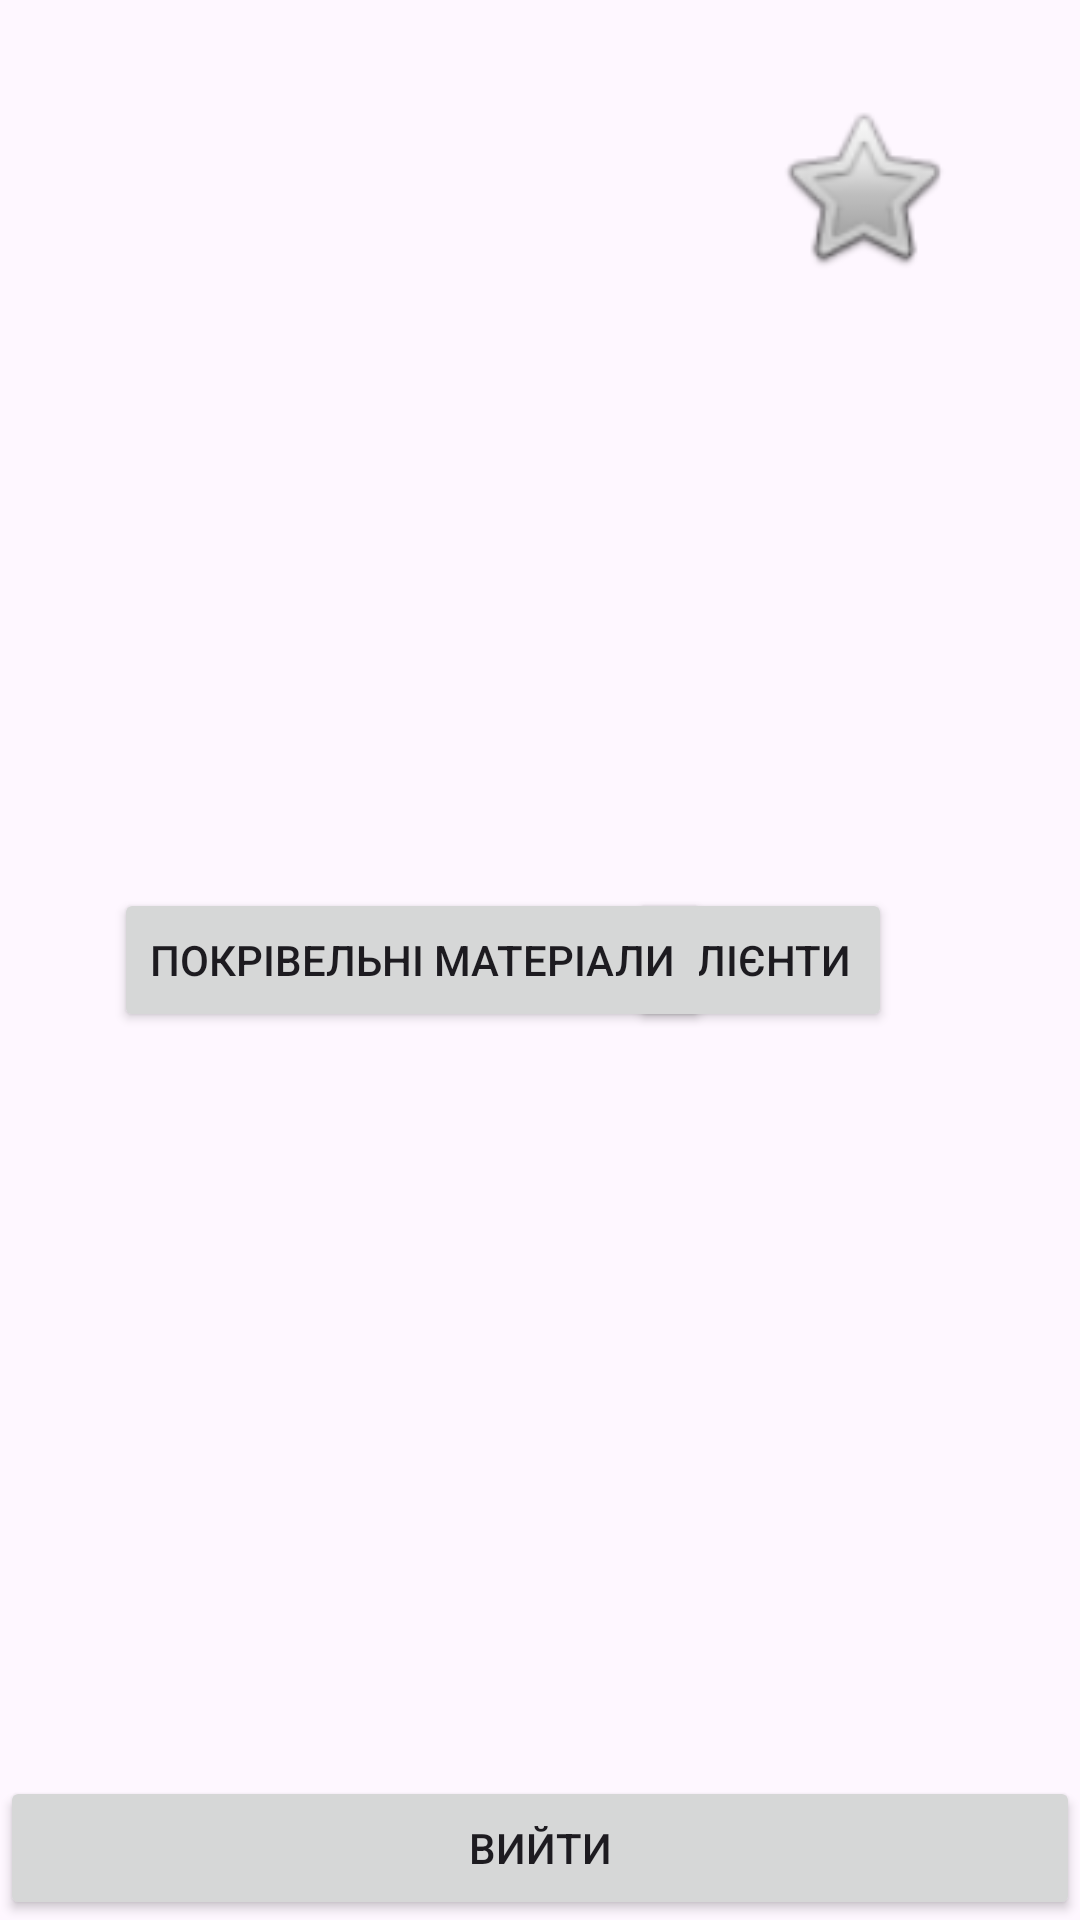

Where to tap for icons on this 1080w x 1920h app screen, as (x=x, y=y):
star: (x=864, y=188)
